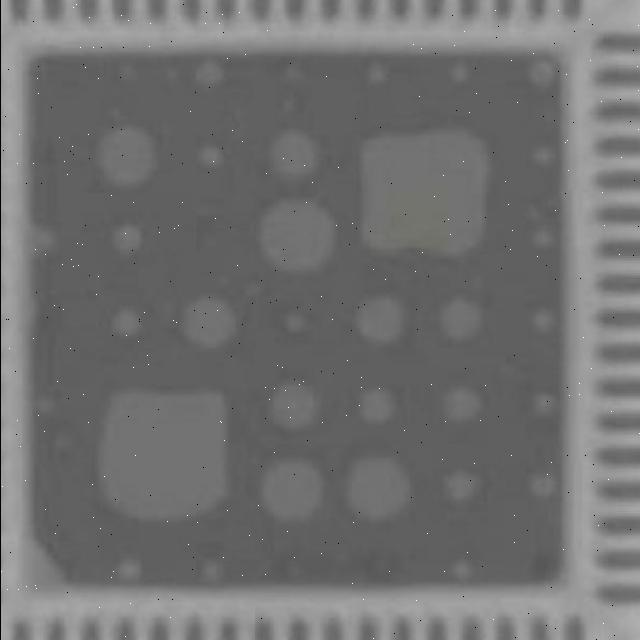Chip: (0, 0, 640, 640), (22, 53, 563, 590)
void: (42, 601, 596, 640), (43, 603, 583, 640), (97, 389, 226, 519), (361, 130, 489, 255), (50, 0, 600, 27), (261, 198, 334, 271), (345, 455, 409, 519), (261, 458, 323, 521), (96, 127, 156, 186), (182, 297, 237, 348), (354, 294, 403, 345), (271, 381, 316, 429), (271, 130, 316, 178), (438, 295, 483, 339), (443, 385, 483, 422), (358, 387, 396, 423), (445, 469, 478, 500), (112, 223, 141, 254), (528, 59, 555, 89), (598, 482, 640, 501), (111, 307, 140, 334), (599, 550, 640, 569), (597, 138, 640, 156), (598, 274, 640, 292), (599, 240, 640, 258), (599, 344, 640, 362), (597, 68, 640, 85), (597, 102, 640, 119), (597, 172, 640, 189), (597, 448, 640, 465), (598, 206, 640, 223), (598, 413, 640, 430), (598, 585, 640, 602), (599, 379, 640, 396), (599, 516, 640, 533), (598, 35, 640, 51), (598, 310, 640, 326), (195, 60, 222, 83), (531, 474, 556, 497), (532, 308, 554, 333), (533, 391, 557, 413), (115, 558, 141, 578), (197, 145, 222, 165), (201, 559, 221, 582), (451, 560, 473, 578), (184, 0, 203, 19), (219, 0, 239, 18), (497, 619, 514, 640), (531, 619, 548, 640), (252, 0, 271, 18), (320, 0, 339, 18), (464, 619, 480, 640), (187, 622, 205, 640), (391, 0, 410, 17), (426, 0, 445, 17), (285, 0, 304, 16), (256, 623, 273, 640), (393, 623, 410, 640), (325, 623, 342, 640), (114, 0, 132, 16), (460, 0, 478, 16), (562, 0, 580, 16), (360, 624, 378, 640), (12, 0, 28, 18), (430, 621, 445, 640), (152, 623, 168, 640), (221, 624, 238, 640), (290, 623, 306, 640), (528, 0, 546, 15), (83, 624, 99, 640), (15, 624, 30, 640), (148, 0, 165, 14), (495, 0, 510, 15), (50, 624, 63, 640), (359, 0, 372, 13)
